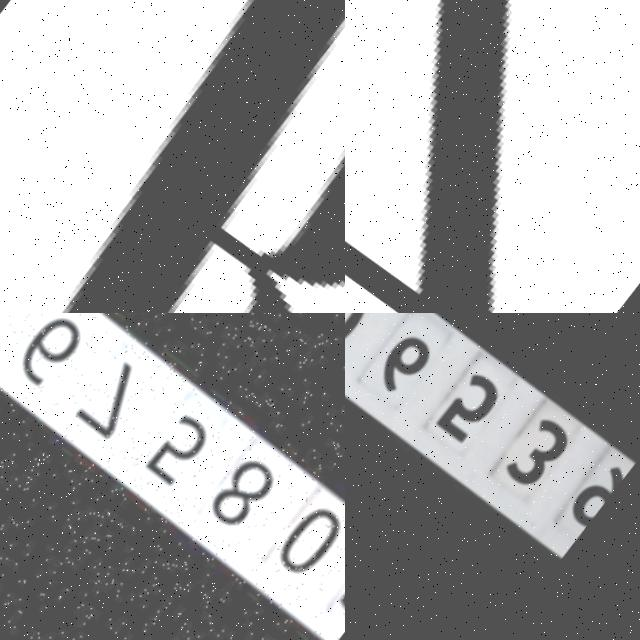0: (263, 496, 345, 597), (345, 313, 389, 374)
2: (327, 544, 345, 634)
3: (493, 410, 587, 510)
5: (421, 360, 520, 466), (131, 405, 223, 504)
6: (0, 313, 96, 407), (357, 320, 449, 418)
7: (61, 349, 164, 459)
8: (193, 447, 292, 554)
9: (557, 456, 638, 546)
Z: (345, 0, 640, 313)
